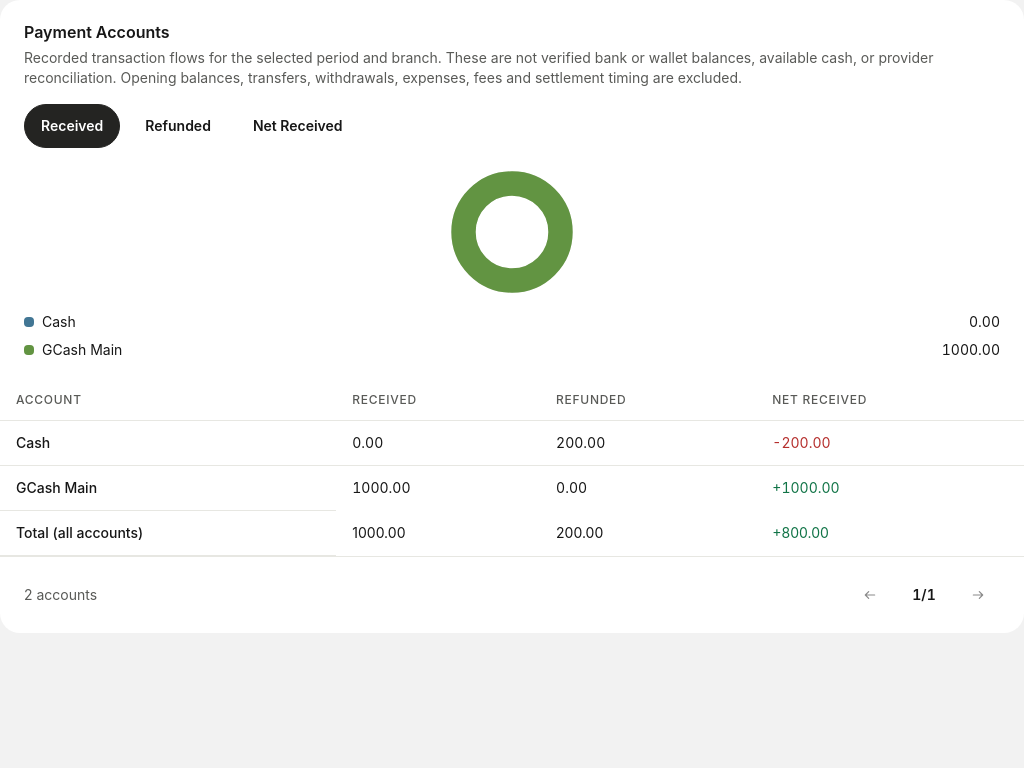
it: payment account reports › toggles locally and switches negative account net to signed bars despite a positive overall net
Expected: the picture named "Received by payment account donut" is shown, [448,168,576,296]
Click the button "Refunded" at (178, 126), box [128,104,228,148]
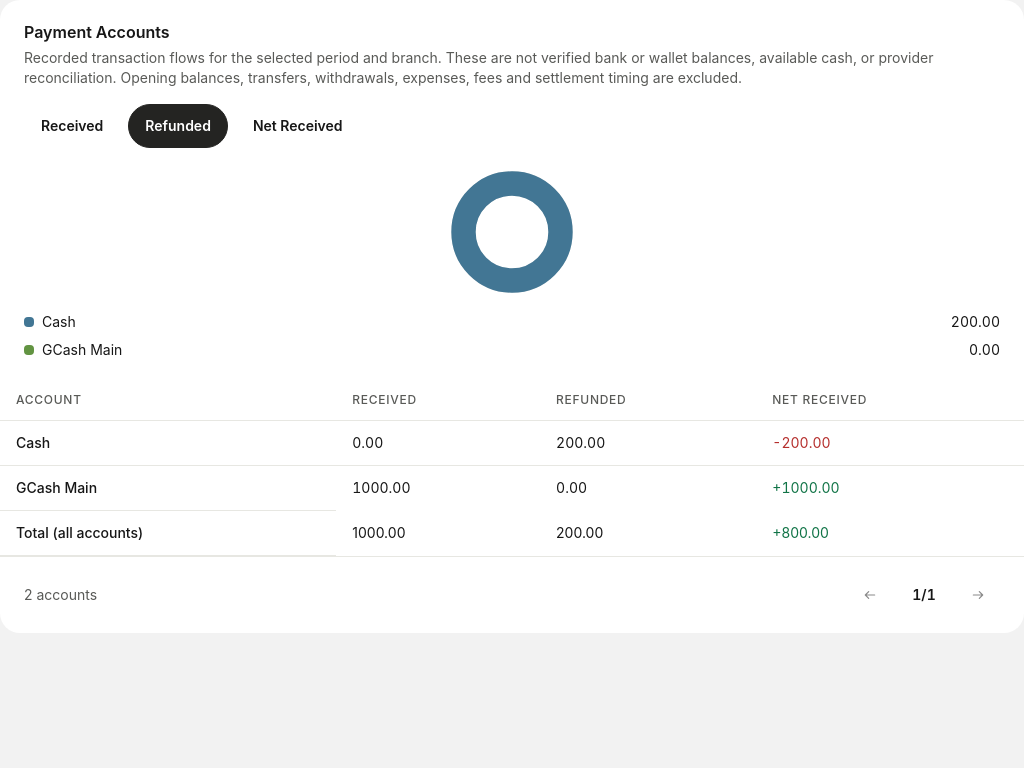
Result: the picture named "Refunded by payment account donut" is shown at [448,168,576,296]
Click the button "Net Received" at (298, 126), box [236,104,360,148]
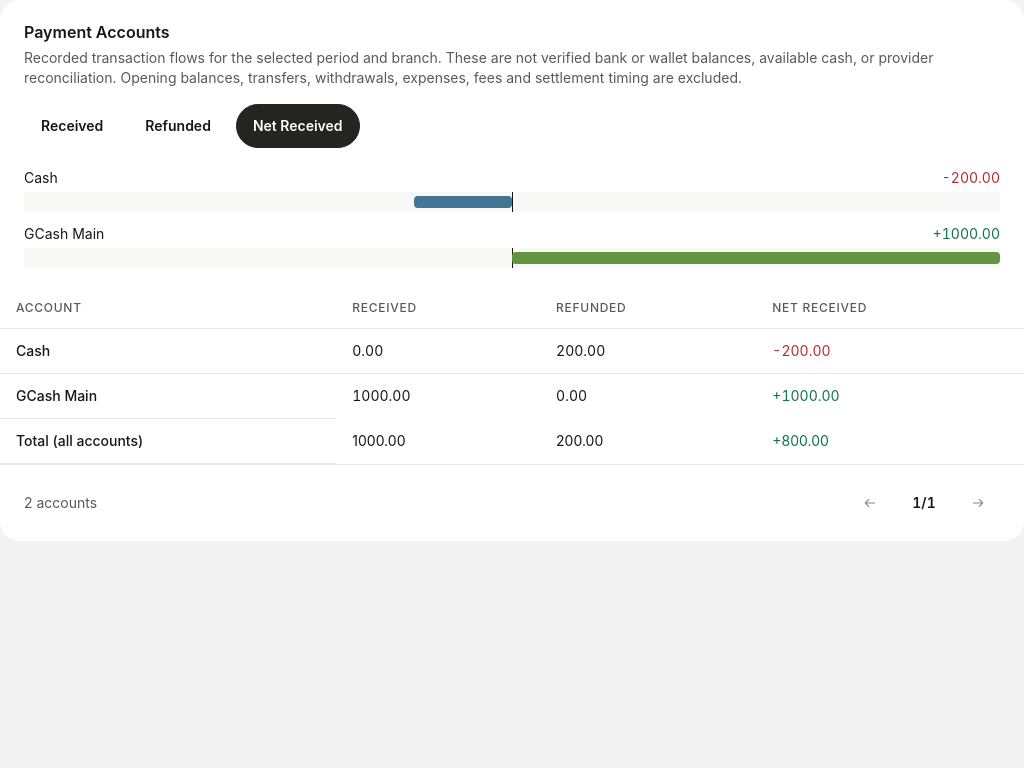
Expected: the table named "Exact payment account flows" does not show "PHP", [0,288,1023,464]
Result: the picture named "Net Received signed bar chart; zero baseline" is shown at [0,168,1023,288]
